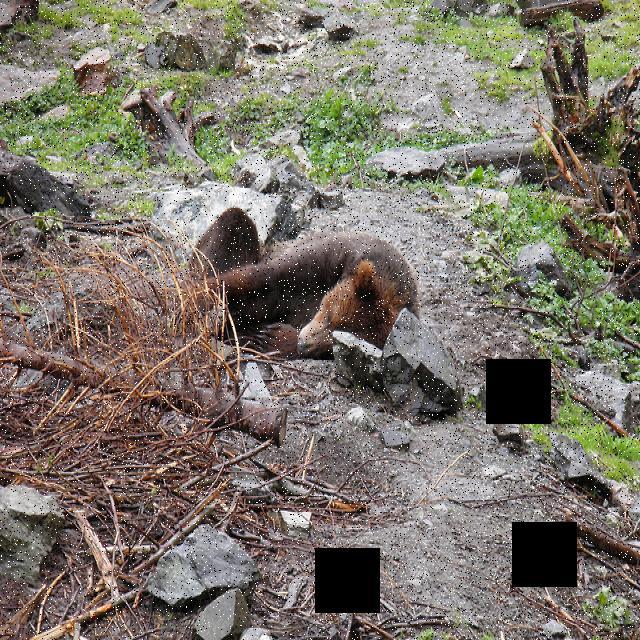Bear: (155, 192, 436, 359)
